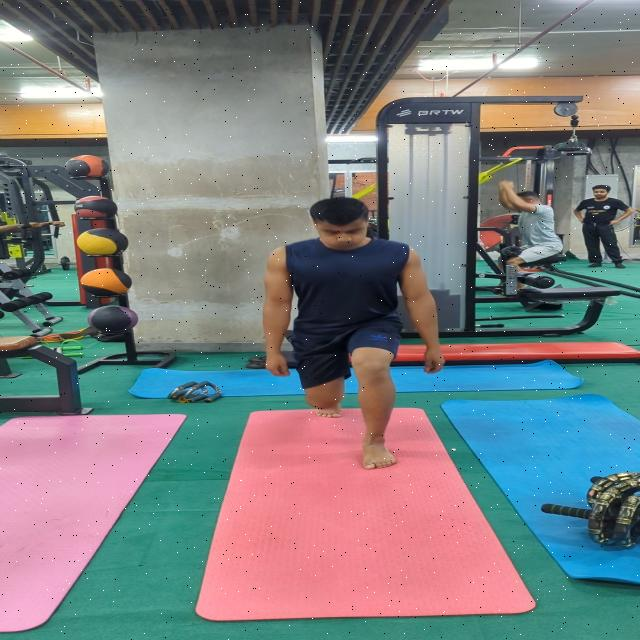Normal_Lunges: (258, 196, 448, 474)
